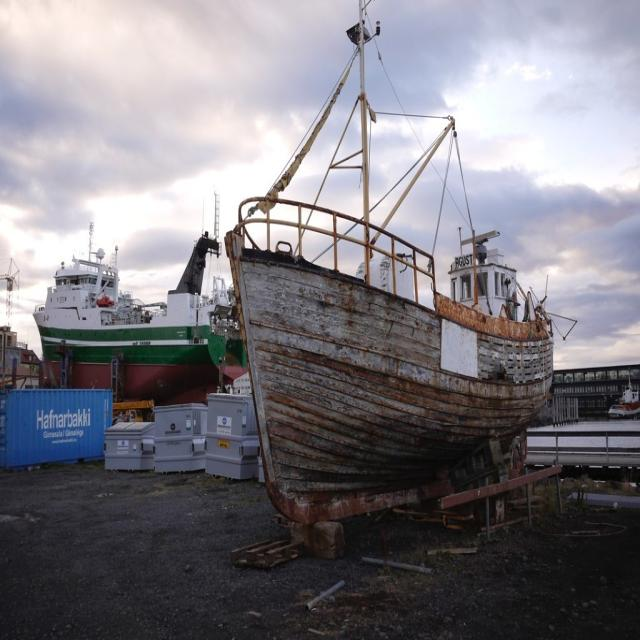Boat: (208, 74, 559, 537), (32, 192, 246, 406), (610, 376, 640, 419)
